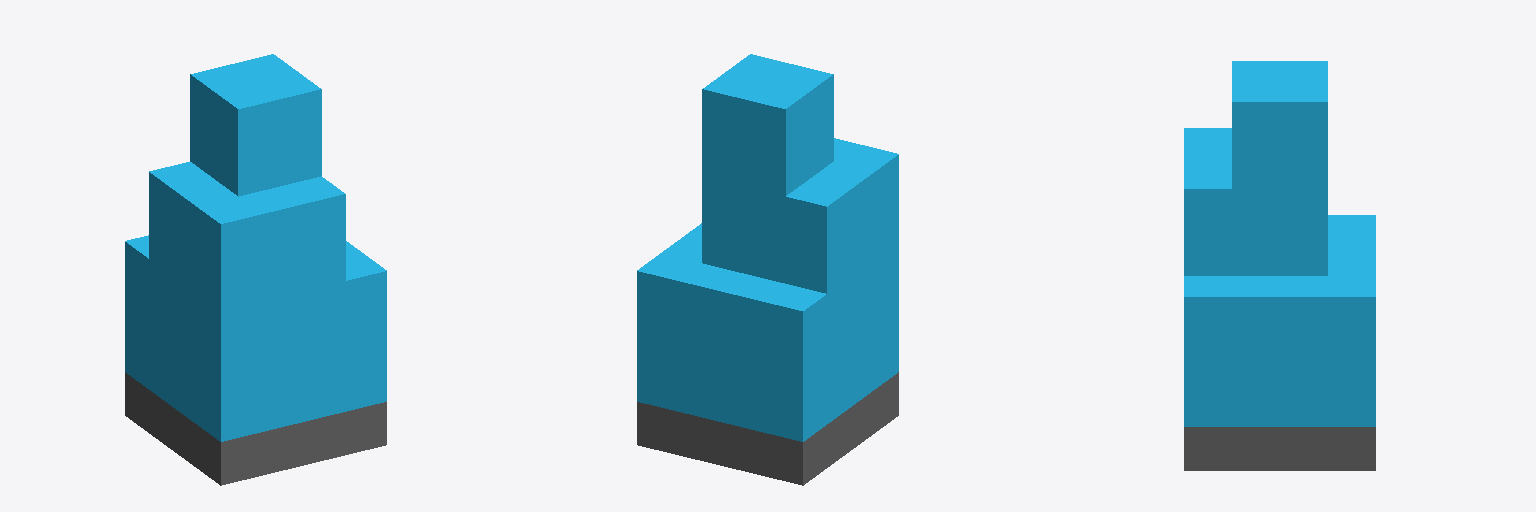
3 renders of one model, left to right at view 1: azimuth 30°, elevation 25°; view 2: azimuth 150°, elevation 25°; view 3: azimuth 270°, elevation 25°, orthographic.
Parts seen in each view (by area): view 1: object 1; view 2: object 1; view 3: object 1.
Part boxes in pixels (x1,y1,x2,y2): object 1: (125, 54, 386, 485); object 1: (637, 54, 898, 485); object 1: (1184, 61, 1375, 470).
Size of the model in its own units: 0.4 by 0.8 by 0.4.
1 materials, 1 textured.